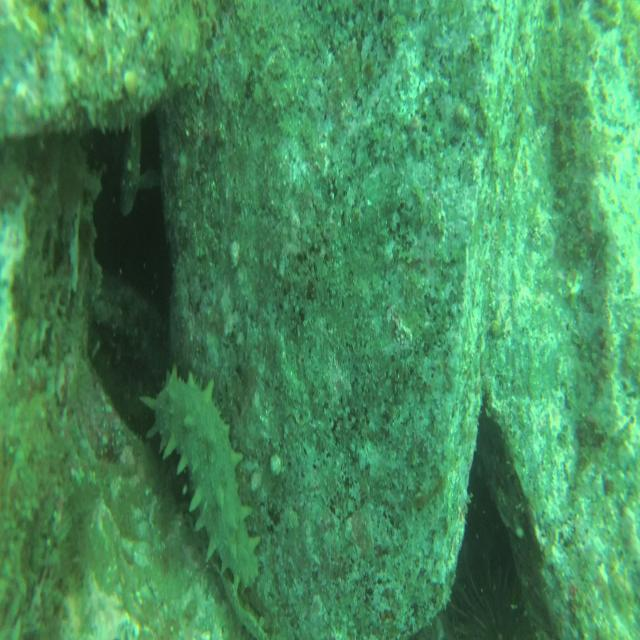echinus: (447, 557, 537, 640)
holothurian: (136, 362, 264, 595)
